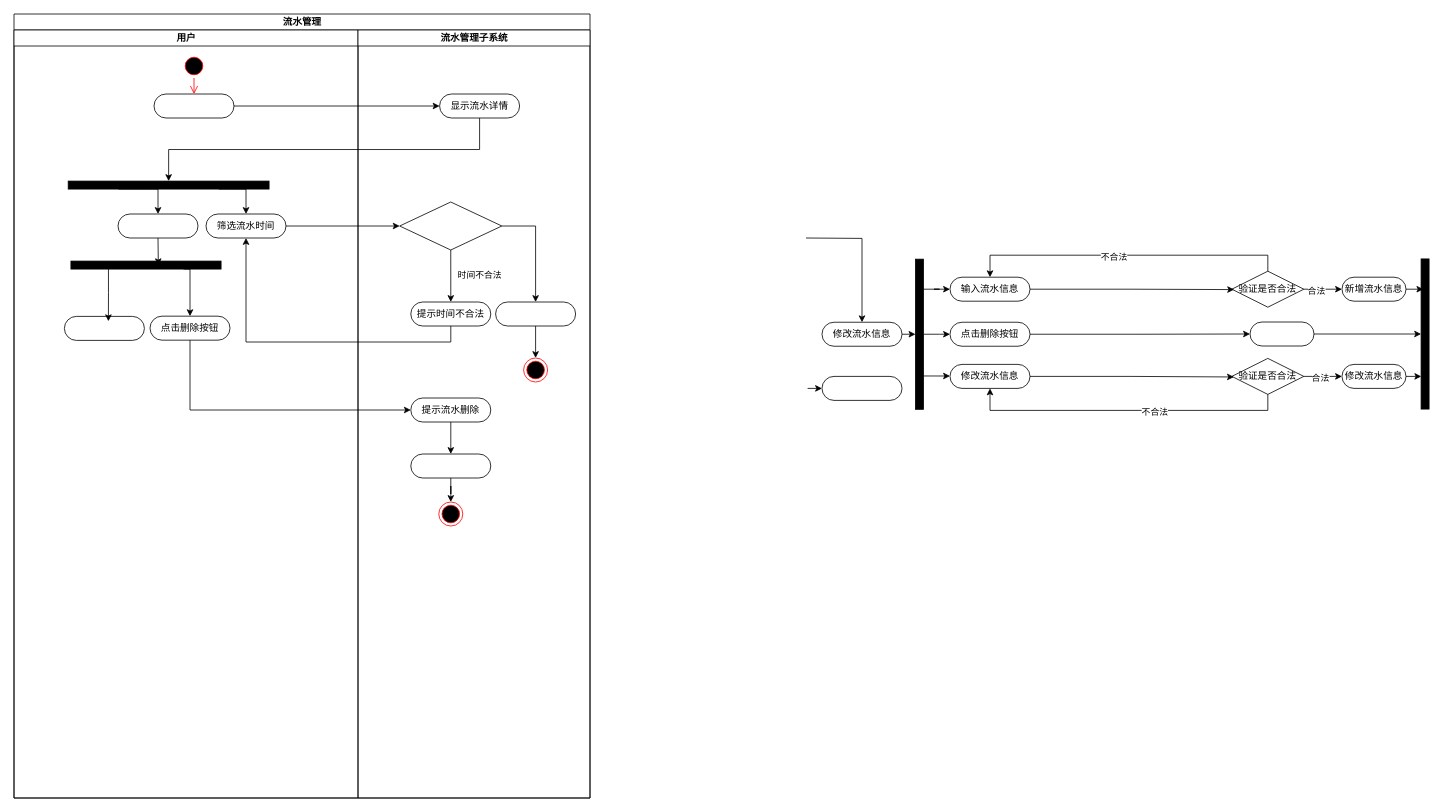
Image size: 1444x812. Some labels were removed from this diagram. Here are the shapes that lost their labels. From the top down, the centre of each, then its label:
the point at 193,105: 进入流水管理页面
the point at 157,225: 选中一条流水信息
the point at 450,225: 验证流水时间是否合 法
the point at 104,328: 点击修改按钮
the point at 535,313: 显示流水信息
the point at 1281,333: 删除流水信息
the point at 861,388: 报告生成
the point at 450,465: 删除流水
